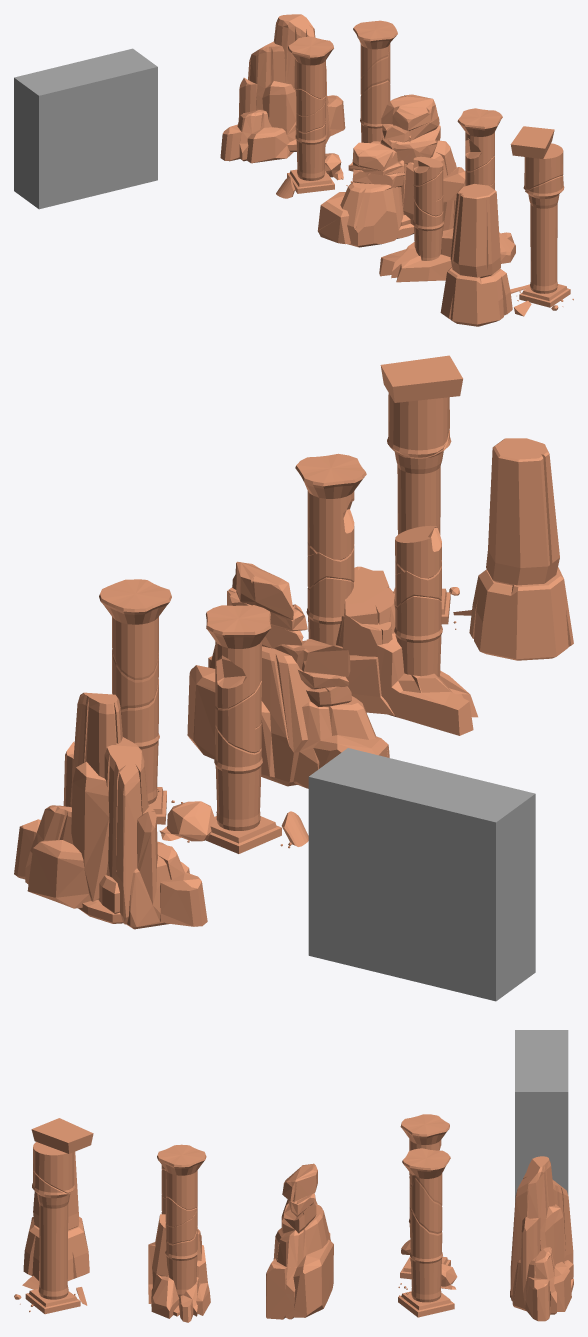
The model's file is lane_run_obstacle.fbx.
3 renders of one model, top to bottom at view 1: azimuth 30°, elevation 25°; view 2: azimuth 150°, elevation 25°; view 3: azimuth 270°, elevation 25°, orthographic. The views are drawn at different scales.
Parts seen in each view (by area): view 1: lane_run_obstacle_dummy, lane_run_obstacle_E, lane_run_obstacle_C, lane_run_obstacle_B, lane_run_obstacle_A, lane_run_obstacle_D; view 2: lane_run_obstacle_dummy, lane_run_obstacle_E, lane_run_obstacle_D, lane_run_obstacle_A, lane_run_obstacle_B, lane_run_obstacle_C; view 3: lane_run_obstacle_E, lane_run_obstacle_A, lane_run_obstacle_D, lane_run_obstacle_B, lane_run_obstacle_dummy, lane_run_obstacle_C.
Part boxes in pixels (box(x1,y1,x2,y2)): lane_run_obstacle_dummy: box(14, 48, 157, 209); lane_run_obstacle_E: box(440, 126, 573, 326); lane_run_obstacle_C: box(317, 94, 465, 247); lane_run_obstacle_B: box(276, 20, 397, 198); lane_run_obstacle_A: box(220, 14, 345, 163); lane_run_obstacle_D: box(379, 108, 515, 282); lane_run_obstacle_dummy: box(308, 748, 535, 1001); lane_run_obstacle_E: box(380, 355, 573, 660); lane_run_obstacle_D: box(295, 453, 477, 735); lane_run_obstacle_A: box(14, 692, 207, 929); lane_run_obstacle_B: box(99, 579, 308, 853); lane_run_obstacle_C: box(187, 561, 389, 788); lane_run_obstacle_E: box(14, 1118, 93, 1314); lane_run_obstacle_A: box(510, 1156, 573, 1321); lane_run_obstacle_D: box(148, 1144, 210, 1322); lane_run_obstacle_B: box(398, 1114, 457, 1317); lane_run_obstacle_dummy: box(515, 1030, 568, 1202); lane_run_obstacle_C: box(266, 1163, 333, 1319).
Size of the model in its own units: 1493 by 739 by 2094.
